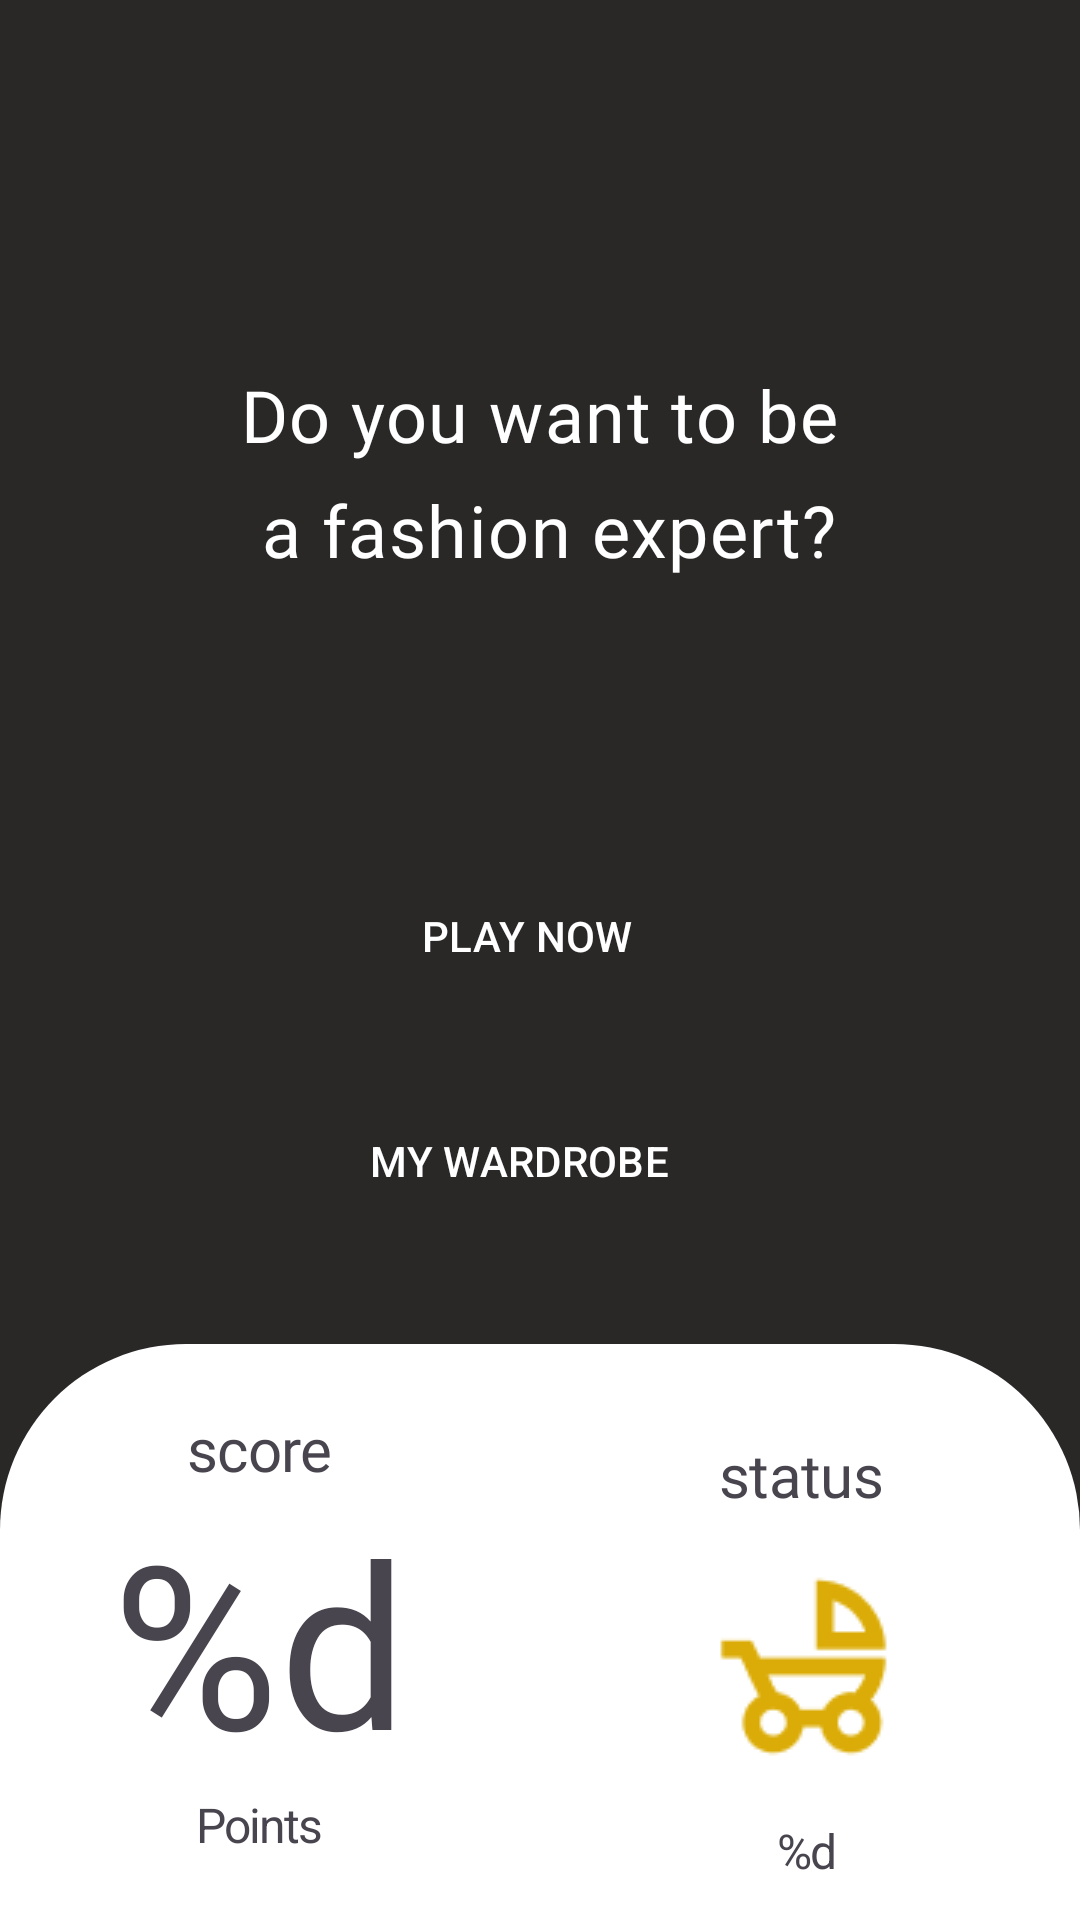

Icon click points for this 1080 × 1920 phone screenshot, format point (x, y):
child friendly: point (803, 1666)
